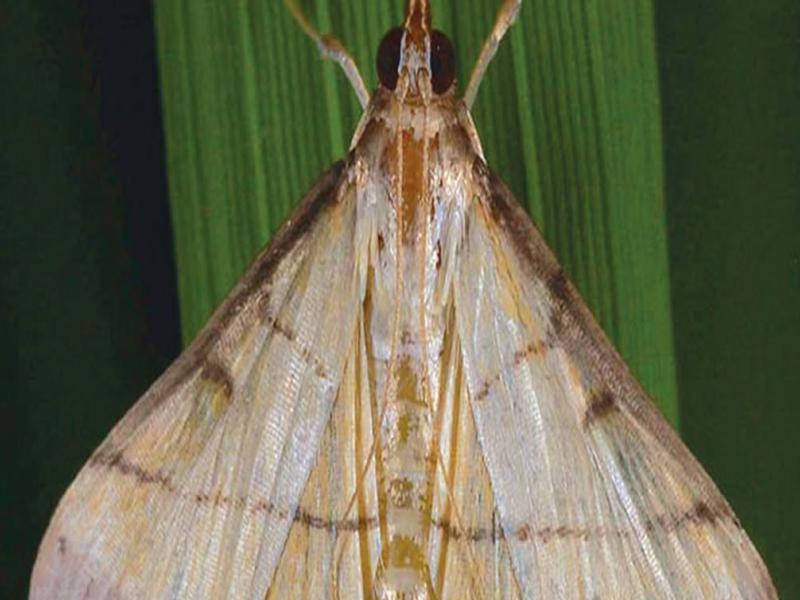Leaf_folder: (77, 24, 786, 599)
